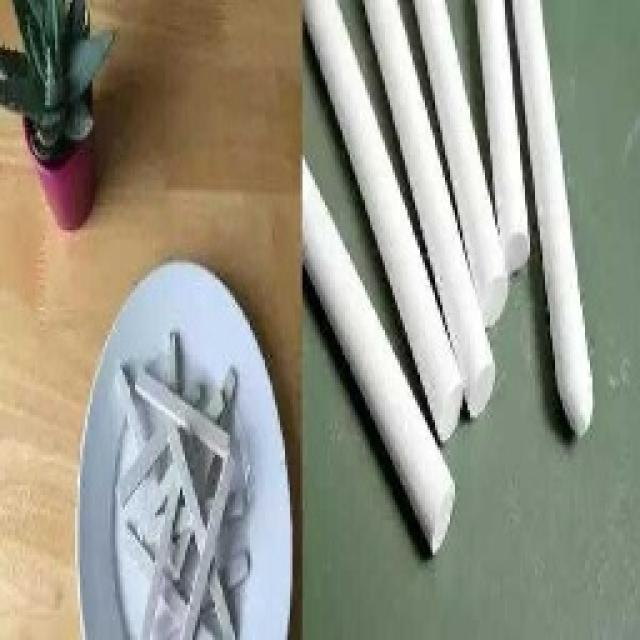pencil: (70, 255, 298, 637)
